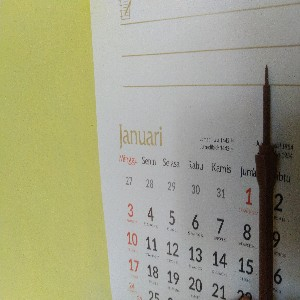solder: (255, 62, 279, 300)
